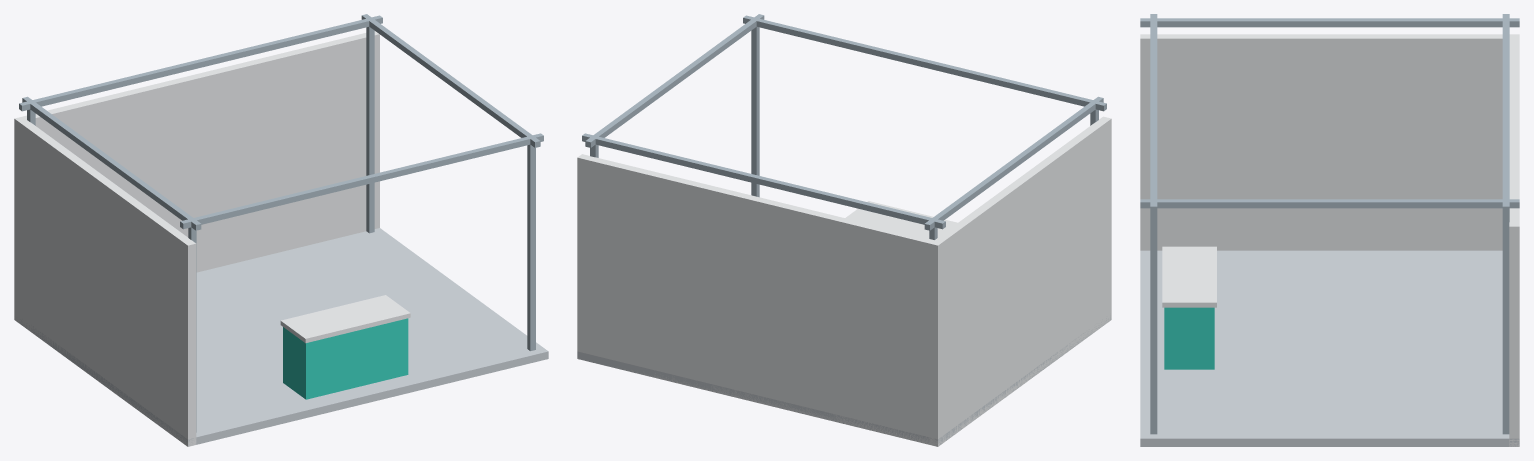
3 renders of one model, left to right at view 1: azimuth 30°, elevation 25°; view 2: azimuth 150°, elevation 25°; view 3: azimuth 270°, elevation 25°, orthographic. The views are drawn at different scales.
Visible parts, largest first — view 1: Exhibition Booth Concept; view 2: Exhibition Booth Concept; view 3: Exhibition Booth Concept.
Part boxes in pixels (box(x1,y1,x2,y2)): Exhibition Booth Concept: box(14, 14, 548, 446); Exhibition Booth Concept: box(577, 14, 1111, 446); Exhibition Booth Concept: box(1140, 14, 1519, 446).
Size of the model in its own units: 6 by 3.49 by 5.
